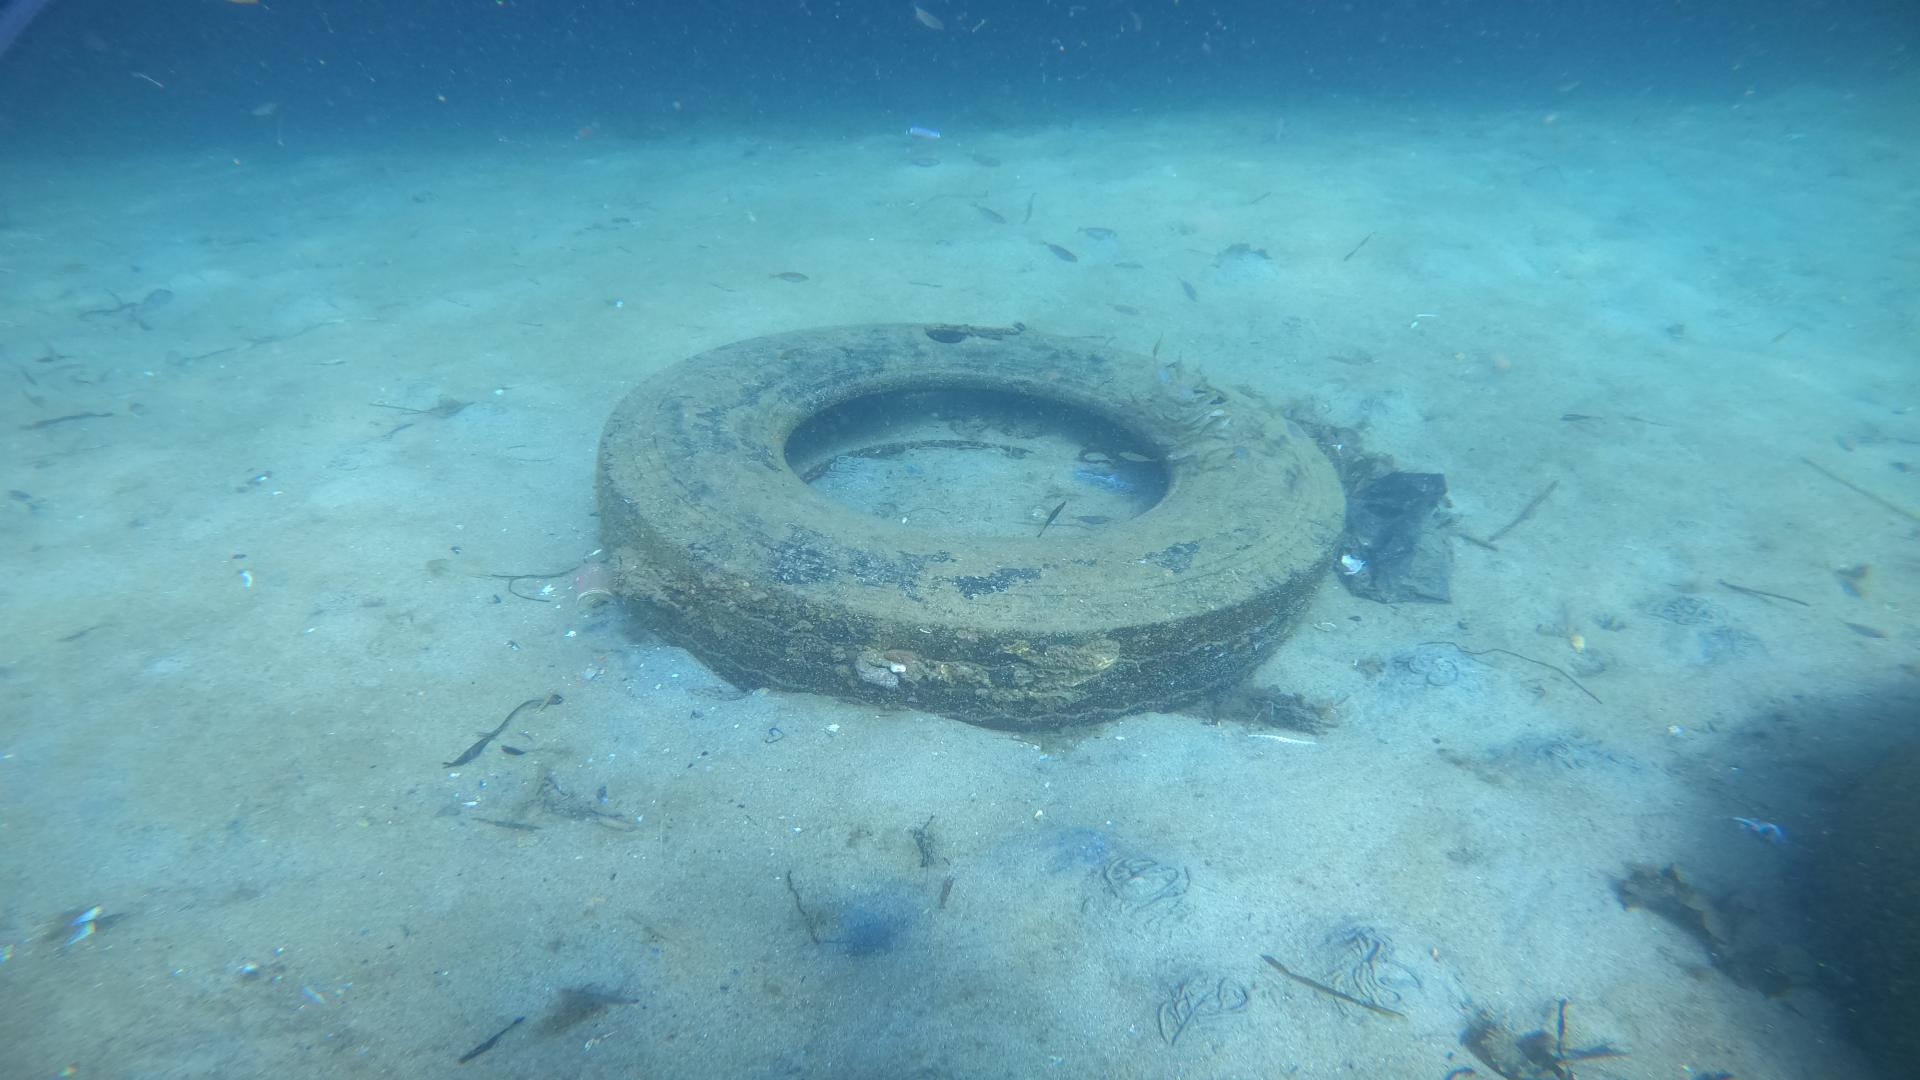tire: (595, 319, 1352, 727)
